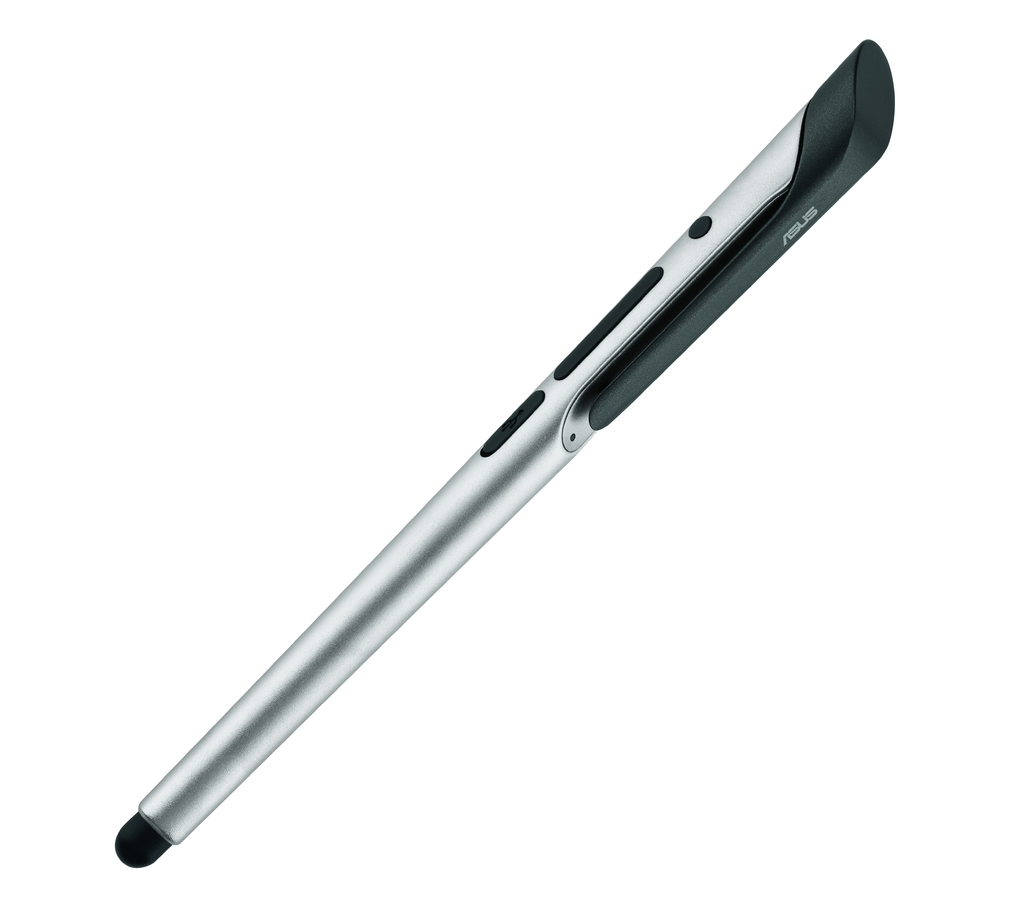Pen: (105, 36, 897, 872)
